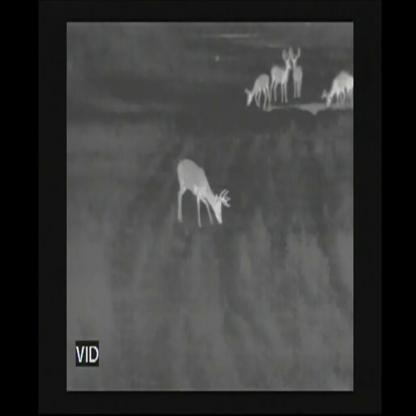rehkitze: (175, 157, 232, 227), (321, 68, 354, 114), (271, 48, 292, 109), (245, 72, 271, 113), (292, 45, 305, 105)
